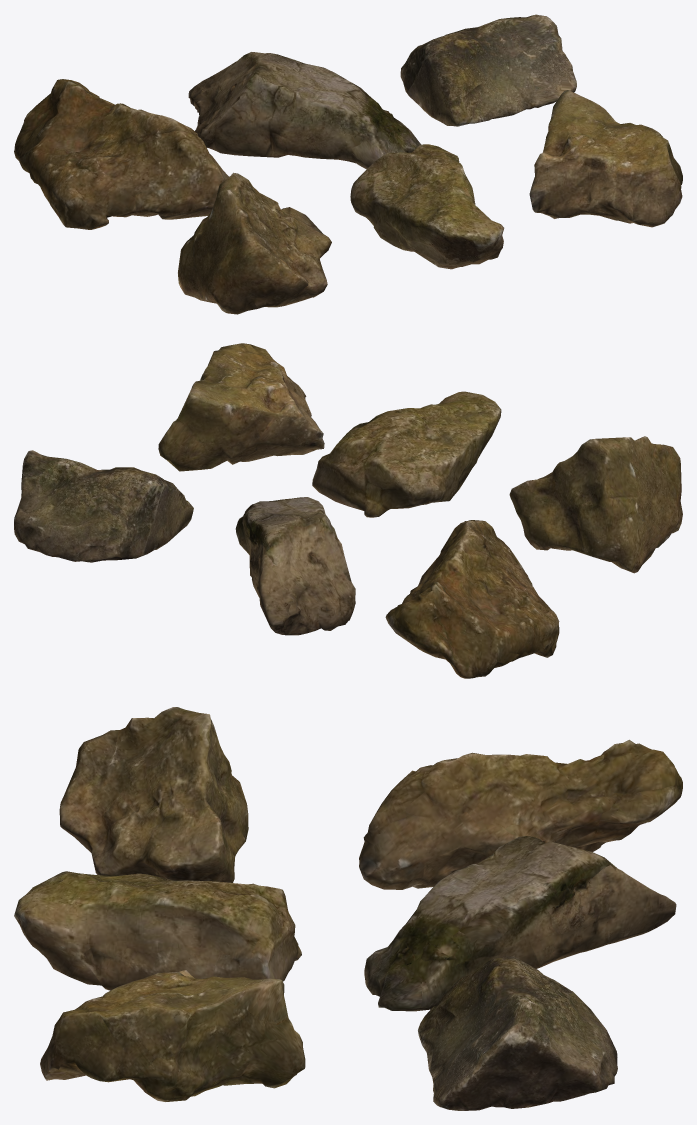
File: rock_moss_set_01.glb
3 views of the same model, one above another, from view 1: azimuth 30°, elevation 25°; view 2: azimuth 150°, elevation 25°; view 3: azimuth 270°, elevation 25° (orthographic). The views are drawn at different scales.
Visible parts, largest first — view 1: rock_moss_set_01_rock01; view 2: rock_moss_set_01_rock01; view 3: rock_moss_set_01_rock01.
Boxes of the visible parts, bbox=[...] form: rock_moss_set_01_rock01: bbox=[14, 14, 682, 314]; rock_moss_set_01_rock01: bbox=[14, 343, 682, 678]; rock_moss_set_01_rock01: bbox=[14, 707, 682, 1110].
Size of the model in its own units: 8 by 1.76 by 6.94.
Materials: 1 (1 with a texture image).
